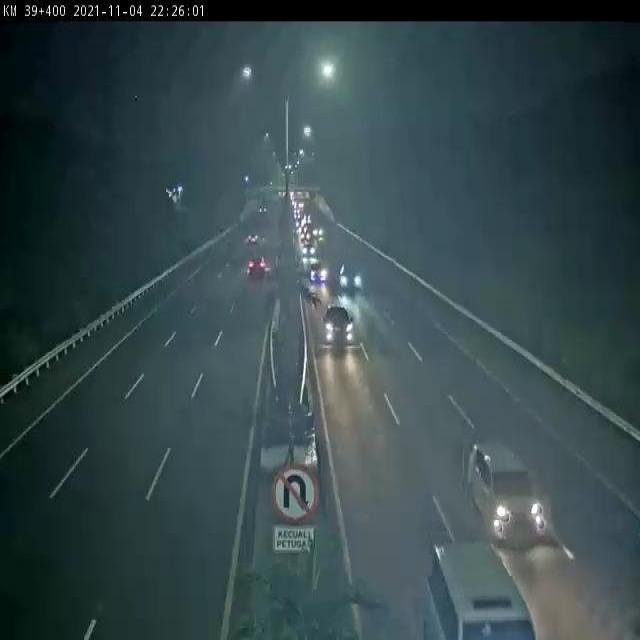car: (433, 547, 531, 632), (468, 449, 547, 539), (319, 307, 358, 361), (342, 262, 366, 290), (309, 260, 330, 289), (250, 262, 269, 278), (302, 240, 317, 259), (249, 232, 260, 248)
